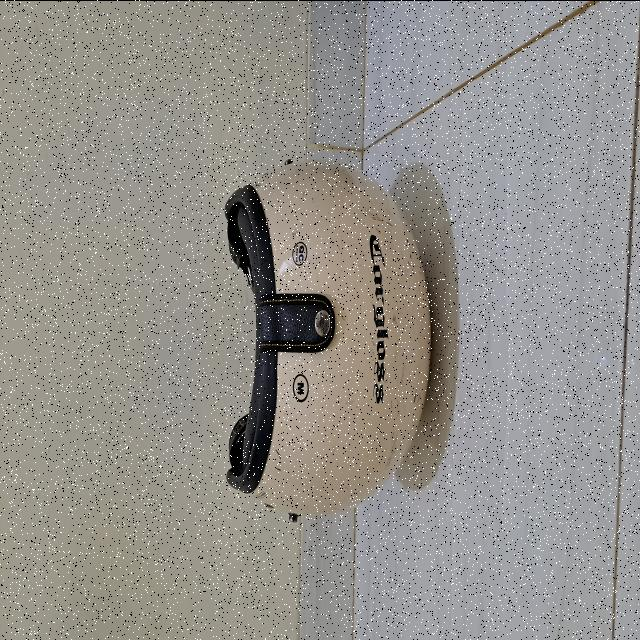Helmet: (225, 159, 434, 516)
